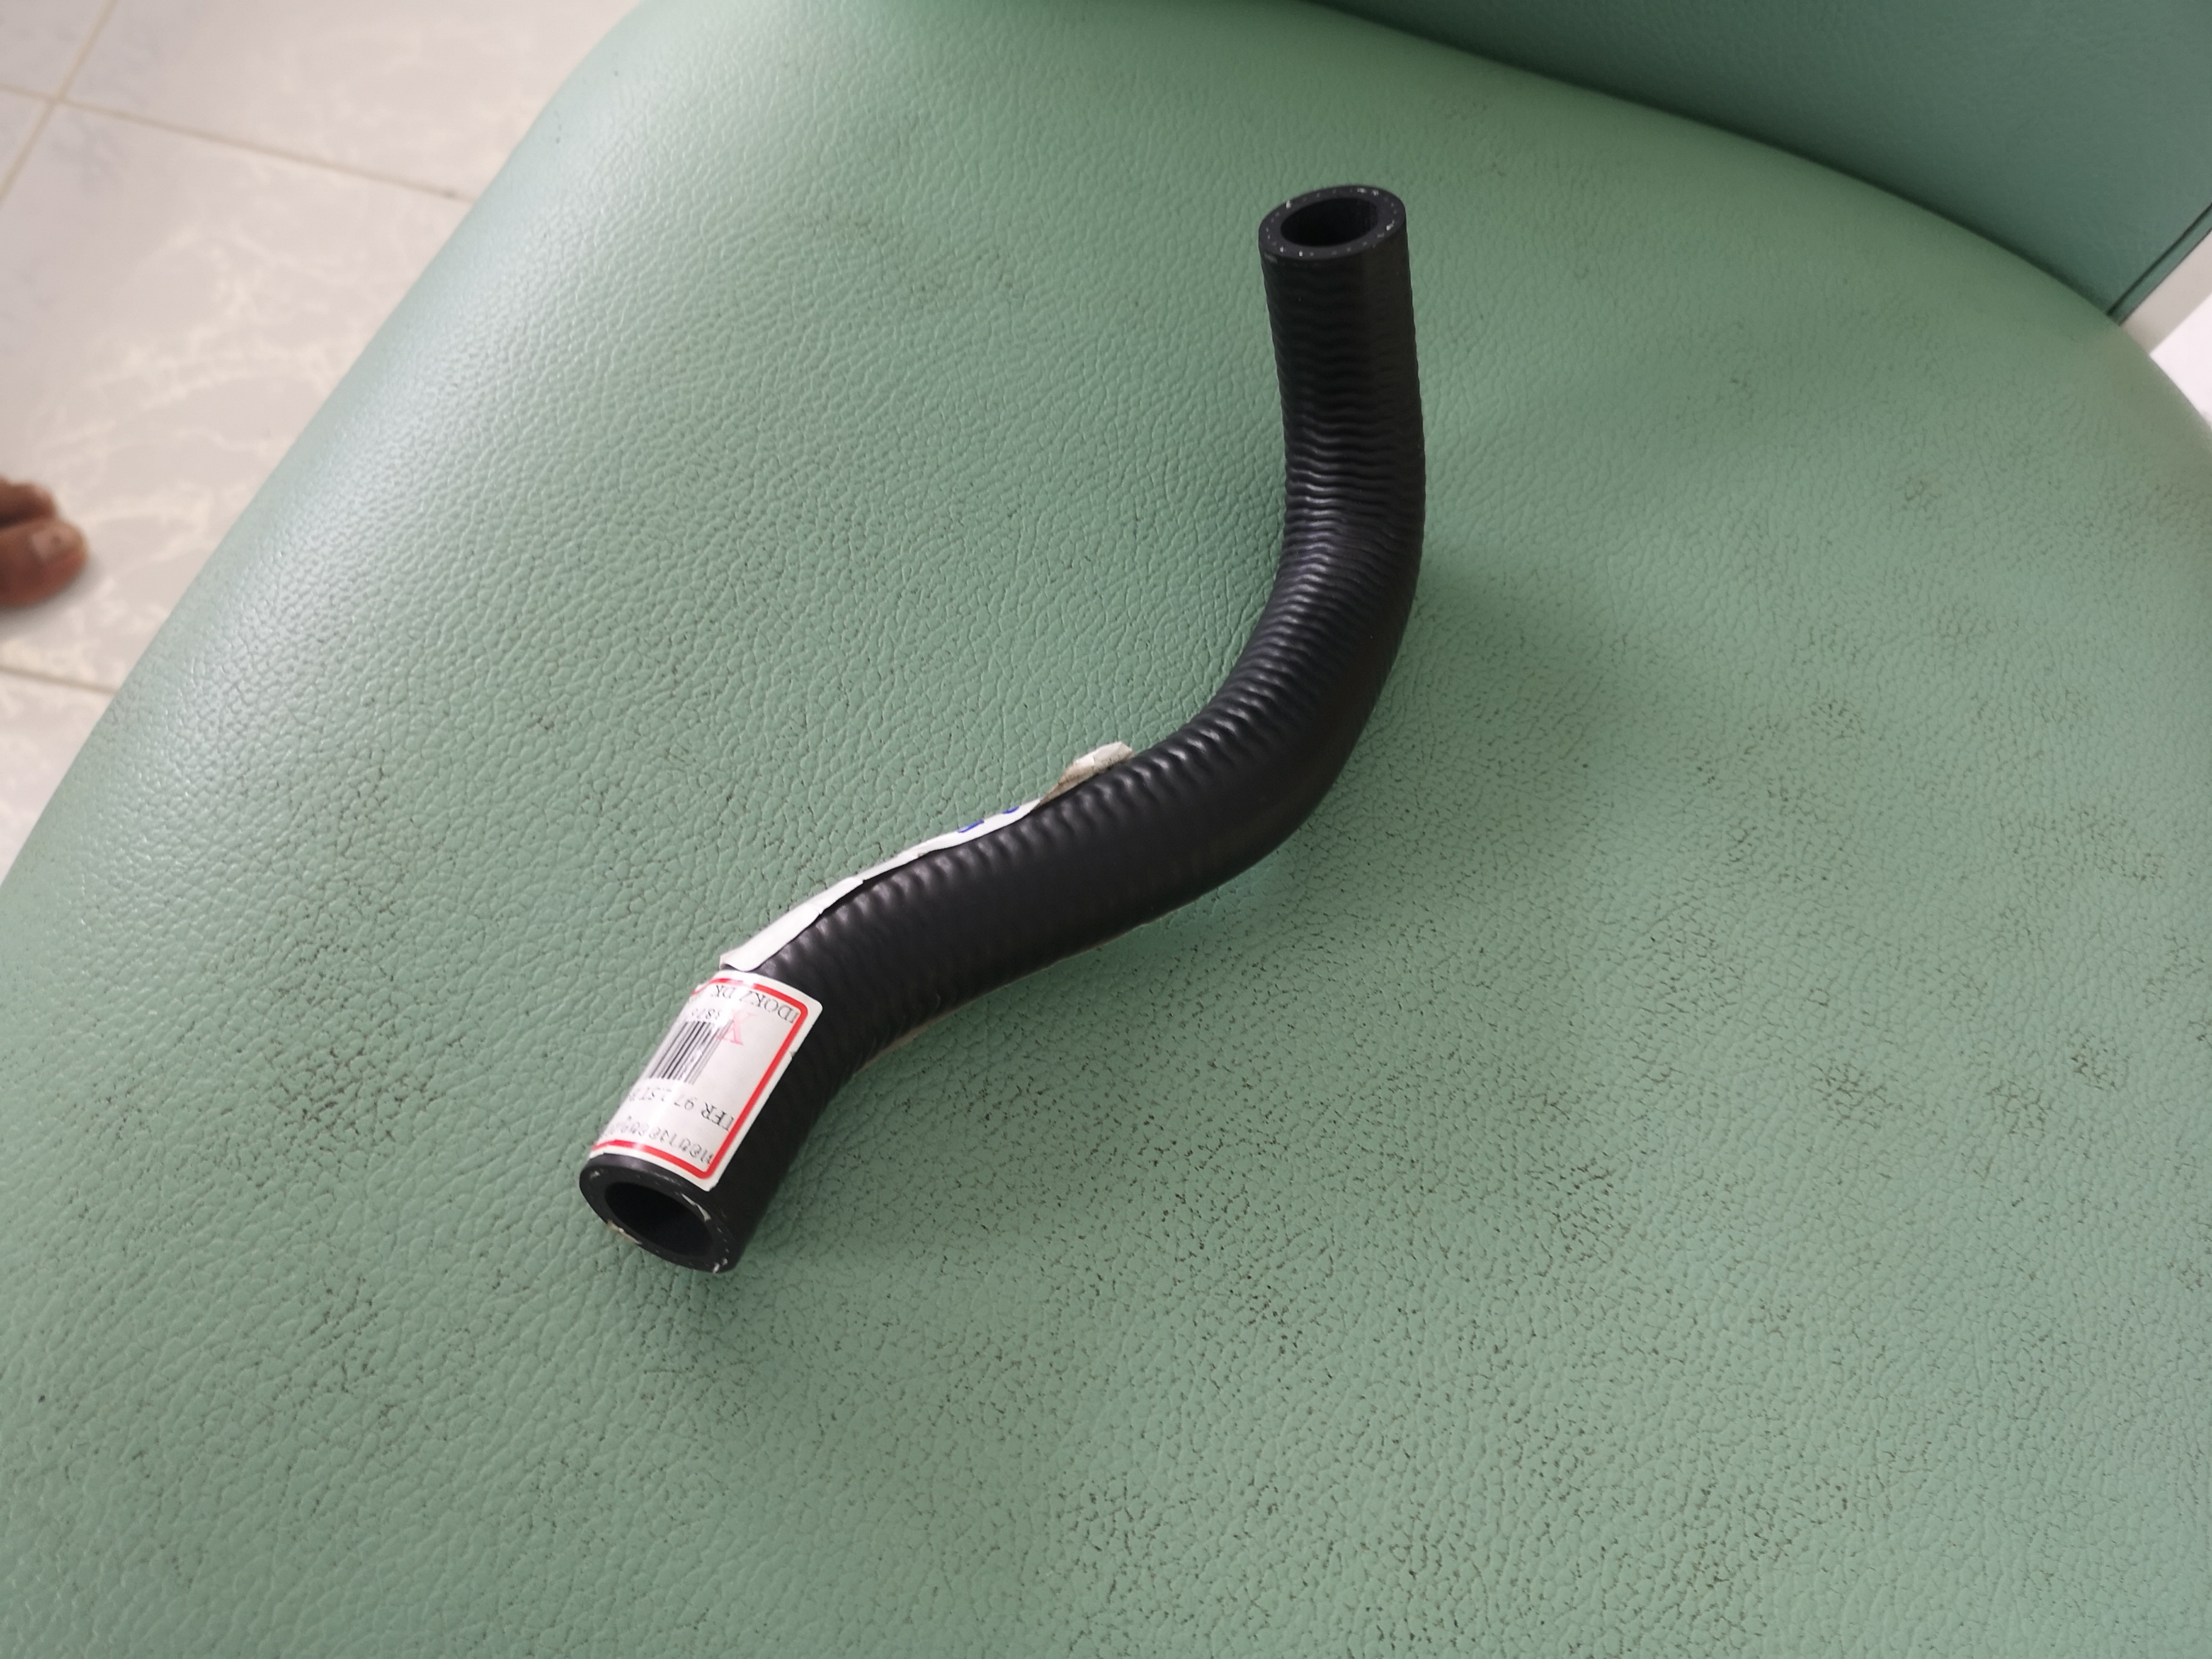ท่อยางน้ำมันเลี้ยงเทอร์โบ: (597, 113, 1440, 1291)
